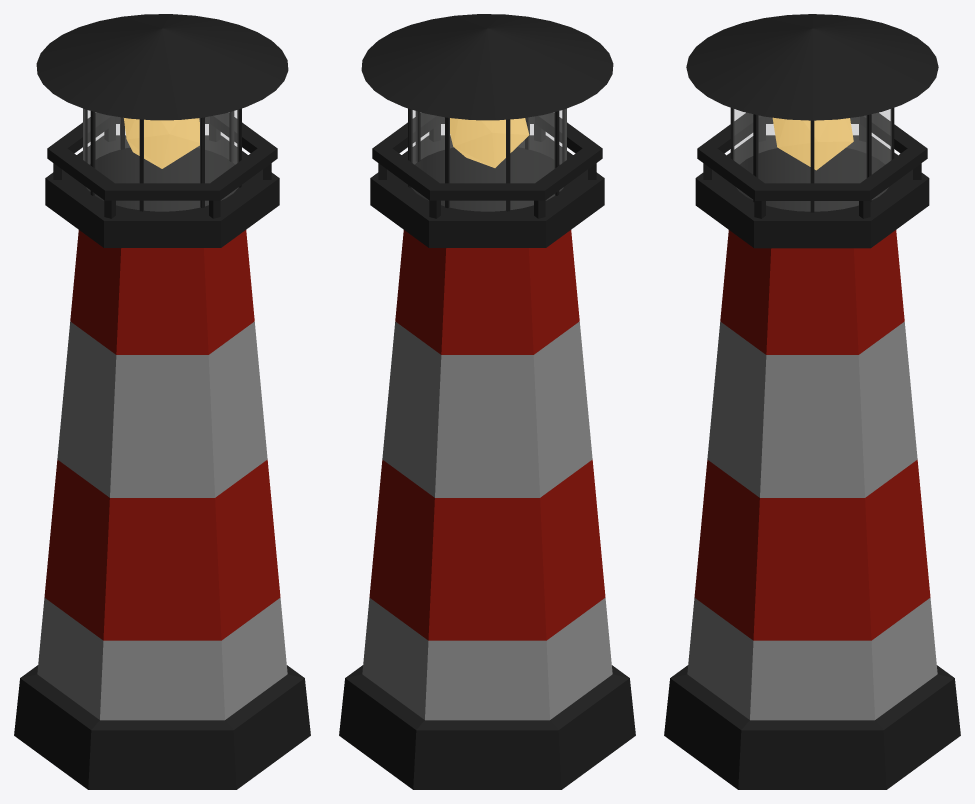
The model's file is lighthouse.glb.
The picture shows the model from 3 angles, left to right: view 1: azimuth 30°, elevation 25°; view 2: azimuth 150°, elevation 25°; view 3: azimuth 270°, elevation 25°; orthographic projection.
Visible parts, largest first — view 1: Cylinder, Cone, Cylinder.001, Cylinder.003, Cylinder.002, Icosphere, Cube.001, Cube; view 2: Cylinder, Cone, Cylinder.001, Cylinder.003, Cylinder.002, Icosphere, Cube.001, Cube; view 3: Cylinder, Cone, Cylinder.001, Cylinder.003, Cylinder.002, Icosphere, Cube.001, Cube.
Part boxes in pixels (box(x1,y1,x2,y2)): Cylinder: box(14, 230, 310, 789); Cone: box(36, 14, 288, 120); Cylinder.001: box(45, 135, 279, 247); Cylinder.003: box(83, 109, 237, 210); Cylinder.002: box(47, 112, 277, 200); Icosphere: box(124, 118, 199, 168); Cube.001: box(83, 108, 241, 211); Cube: box(53, 124, 271, 218); Cylinder: box(339, 230, 635, 789); Cone: box(361, 14, 613, 120); Cylinder.001: box(370, 135, 604, 247); Cylinder.003: box(412, 109, 566, 210); Cylinder.002: box(372, 112, 602, 200); Icosphere: box(450, 118, 529, 167); Cube.001: box(408, 108, 566, 211); Cube: box(378, 124, 596, 218); Cylinder: box(664, 230, 960, 789); Cone: box(686, 14, 938, 120); Cylinder.001: box(695, 135, 929, 248); Cylinder.003: box(733, 109, 891, 210); Cylinder.002: box(697, 112, 927, 200); Icosphere: box(772, 117, 853, 170); Cube.001: box(730, 108, 894, 212); Cube: box(703, 124, 921, 218).
Bounding box in the file's own units: 2.12 × 6.43 × 2.45.
